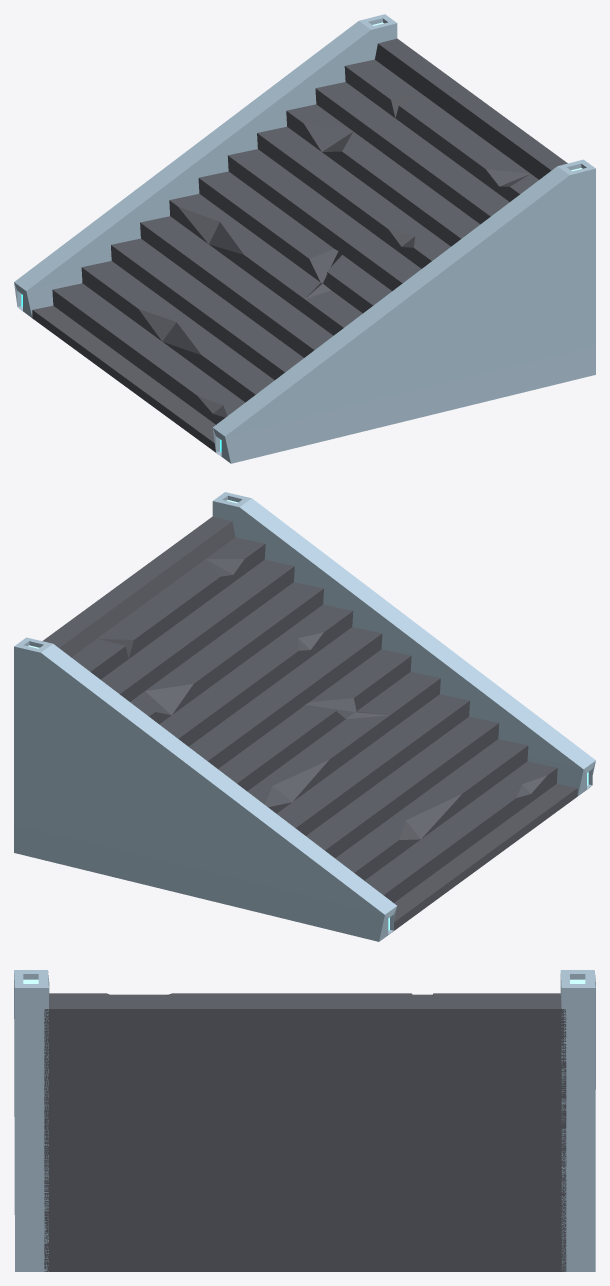
Rendered from Ramp_Small.fbx.
3 renders of one model, top to bottom at view 1: azimuth 30°, elevation 25°; view 2: azimuth 150°, elevation 25°; view 3: azimuth 270°, elevation 25°, orthographic. The views are drawn at different scales.
Visible parts, largest first — view 1: Ramp_Small; view 2: Ramp_Small; view 3: Ramp_Small.
Part boxes in pixels (x1,y1,x2,y2): Ramp_Small: [14, 14, 595, 463]; Ramp_Small: [14, 492, 595, 941]; Ramp_Small: [14, 970, 595, 1271].
Size of the model in its own units: 4.07 by 2.16 by 4.01.
